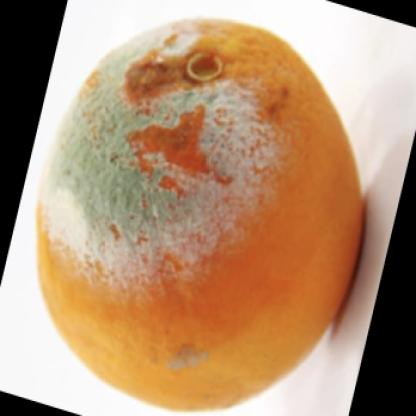rotten: (35, 19, 361, 407)
